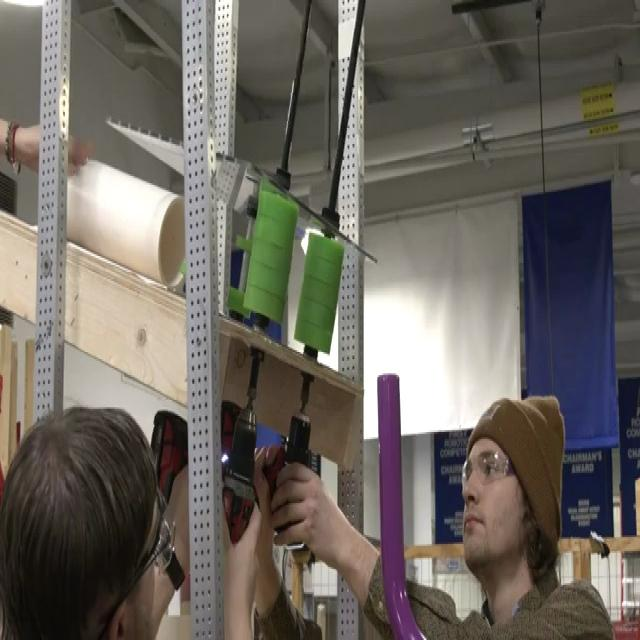Coral: (64, 155, 185, 288)
